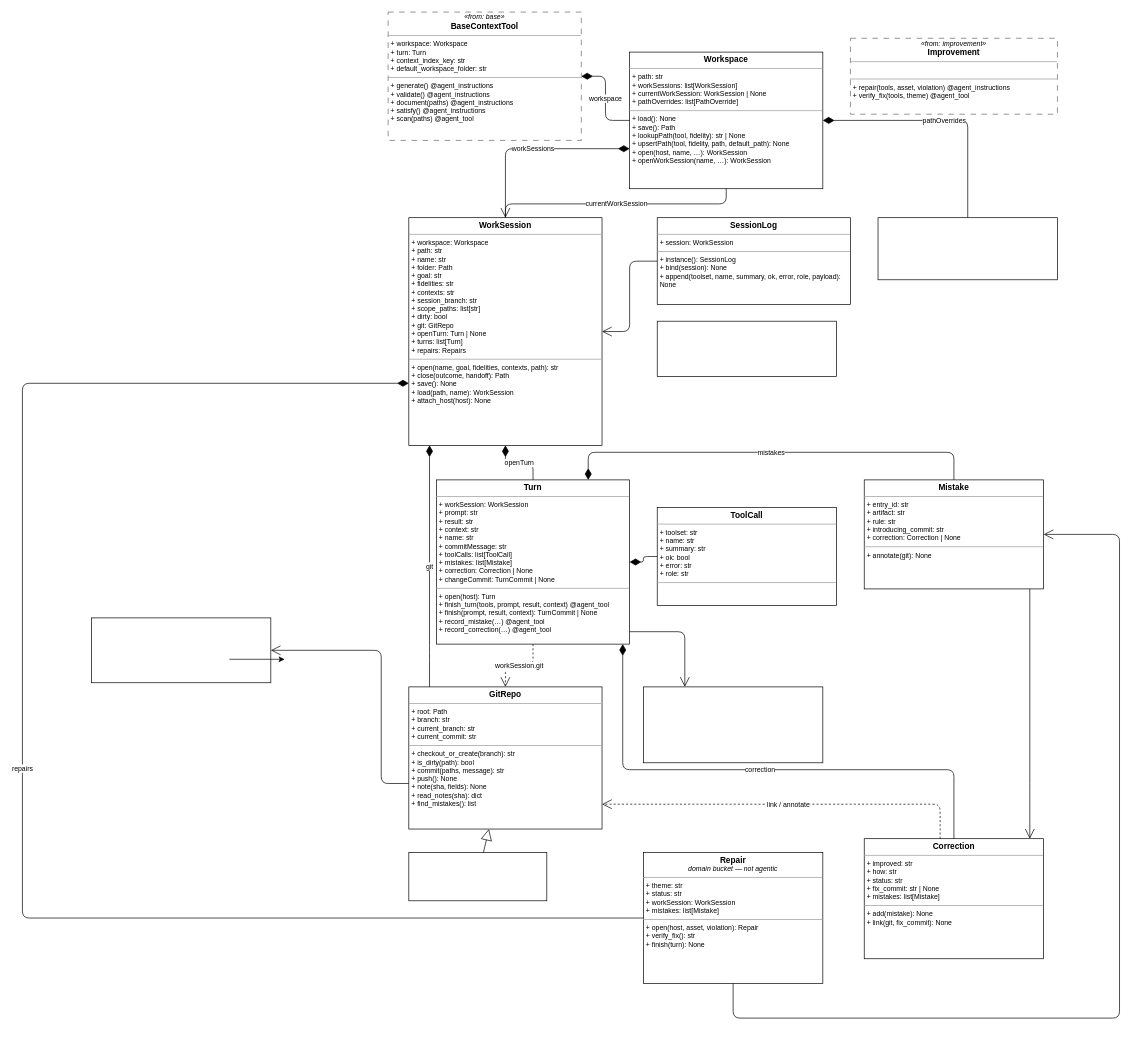
The diagram is 1141 pixels wide and 1040 high, and some of its shapes have lost their labels. Each missing label, with the centre of its shape:
DirtyBranchSwitchError + current: str + wanted: str: (x=181, y=650)
NullGitRepo: (x=477, y=876)
PathOverride + tool: str + fidelity: str + path: str: (x=967, y=248)
SessionPaths + docs_dir(destination): Path: (x=747, y=348)
TurnCommit + name: str + session_name: str + tool_names: list[str] + sha: str: (x=733, y=724)
